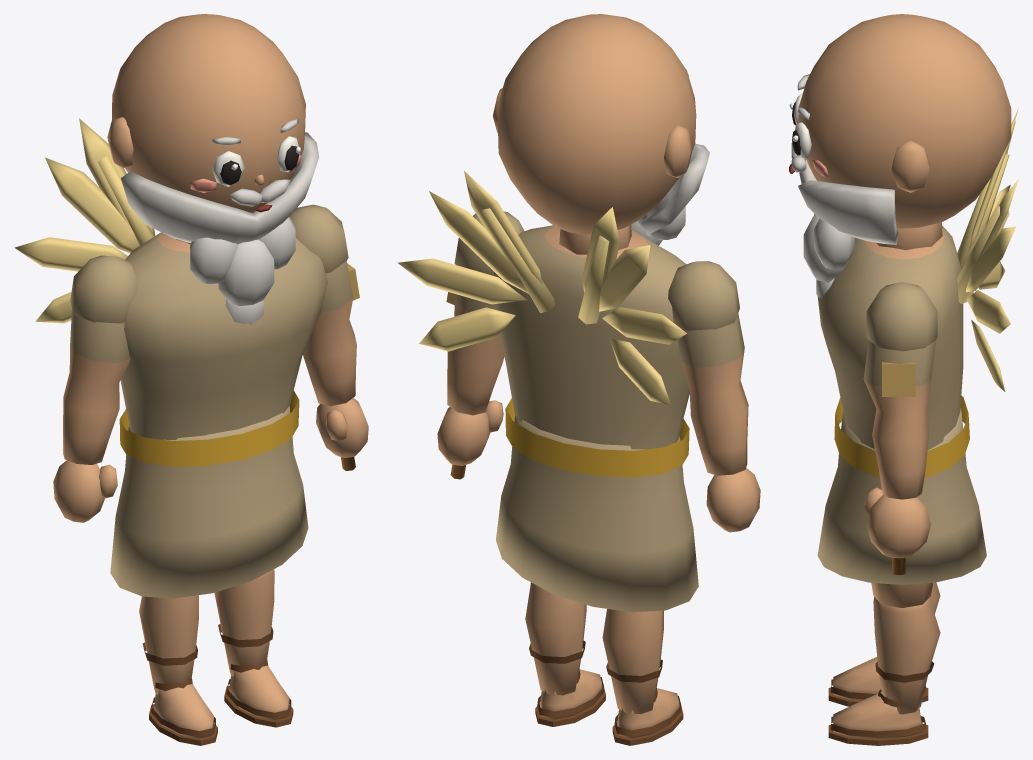
File: daidalos.glb
3 views of the same model, side by side, from view 1: azimuth 30°, elevation 25°; view 2: azimuth 150°, elevation 25°; view 3: azimuth 270°, elevation 25° (orthographic). The views are drawn at different scales.
Visible parts, largest first — view 1: rumpf, kopf, huefte, bart, armL, armR, fluegelL, knieL, knieR, augeL, augeR; view 2: kopf, rumpf, huefte, armL, fluegelR, fluegelL, knieL, armR, knieR, bart; view 3: kopf, rumpf, armR, huefte, knieR, bart, fluegelR, fluegelL, knieL, itemR, beinR, augeR.
Boxes of the visible parts, x1,y1,x2,y2 form: rumpf: (119, 232, 327, 466); kopf: (107, 14, 305, 243); huefte: (110, 406, 308, 598); bart: (121, 132, 319, 324); armL: (53, 255, 138, 522); armR: (289, 204, 368, 457); fluegelL: (14, 118, 155, 323); knieL: (139, 595, 217, 745); knieR: (214, 569, 293, 727); augeL: (212, 151, 244, 186); augeR: (277, 136, 300, 172); kopf: (493, 14, 696, 254); rumpf: (494, 225, 689, 477); huefte: (496, 415, 698, 612); armL: (668, 261, 760, 532); fluegelR: (397, 171, 554, 351); fluegelL: (578, 207, 686, 405); knieL: (602, 609, 683, 745); armR: (437, 211, 524, 465); knieR: (525, 582, 605, 726); bart: (631, 143, 709, 245); kopf: (798, 14, 1011, 250); rumpf: (817, 225, 969, 477); armR: (863, 281, 937, 558); huefte: (817, 408, 986, 584); knieR: (828, 597, 940, 745); bart: (791, 143, 898, 298); fluegelR: (957, 179, 1018, 391); fluegelL: (957, 109, 1018, 289); knieL: (828, 582, 940, 706); itemR: (882, 362, 915, 574); beinR: (871, 583, 932, 608); augeR: (792, 122, 811, 158).
Size of the model in its own units: 1.05 by 2.26 by 0.6785.
